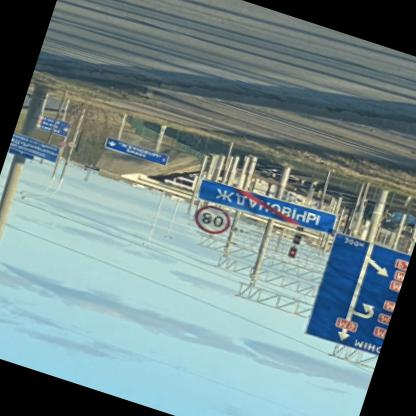speedlimit: (189, 202, 231, 241)
